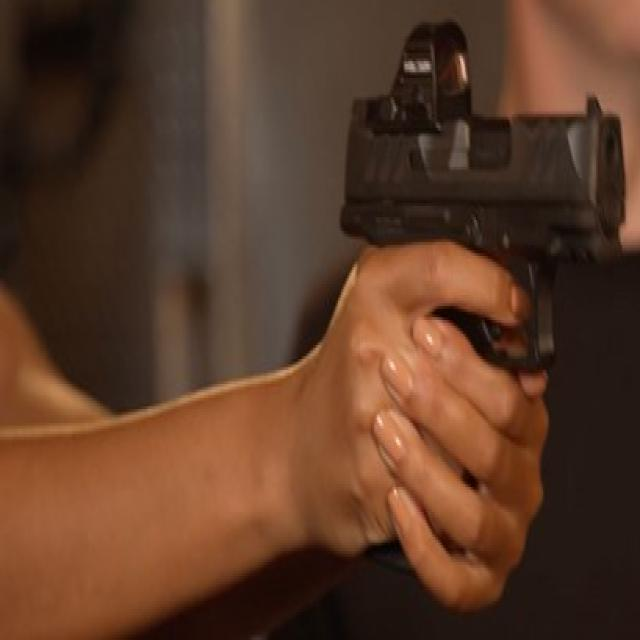HandGun: (341, 22, 627, 373)
